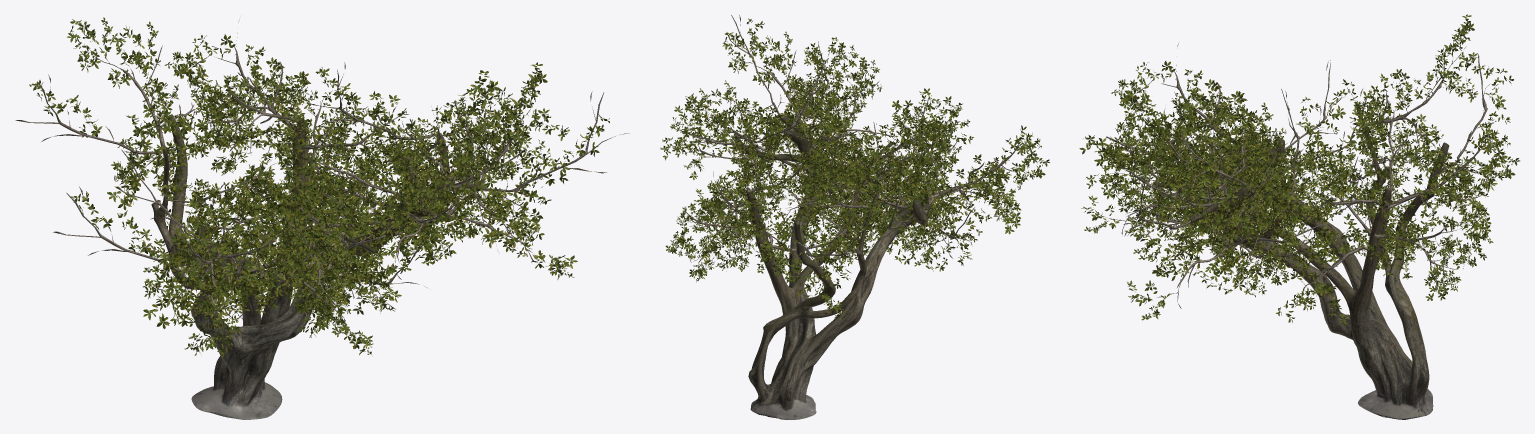
File: island_tree_02.glb
3 renders of one model, left to right at view 1: azimuth 30°, elevation 25°; view 2: azimuth 150°, elevation 25°; view 3: azimuth 270°, elevation 25°, orthographic. The views are drawn at different scales.
Parts seen in each view (by area): view 1: island_tree_02_LOD0; view 2: island_tree_02_LOD0; view 3: island_tree_02_LOD0.
Boxes of the visible parts, x1,y1,x2,y2 form: island_tree_02_LOD0: (15, 17, 629, 419); island_tree_02_LOD0: (660, 15, 1049, 419); island_tree_02_LOD0: (1079, 14, 1519, 419).
Size of the model in its own units: 4.21 by 3.41 by 4.07.
3 materials, 3 textured.
